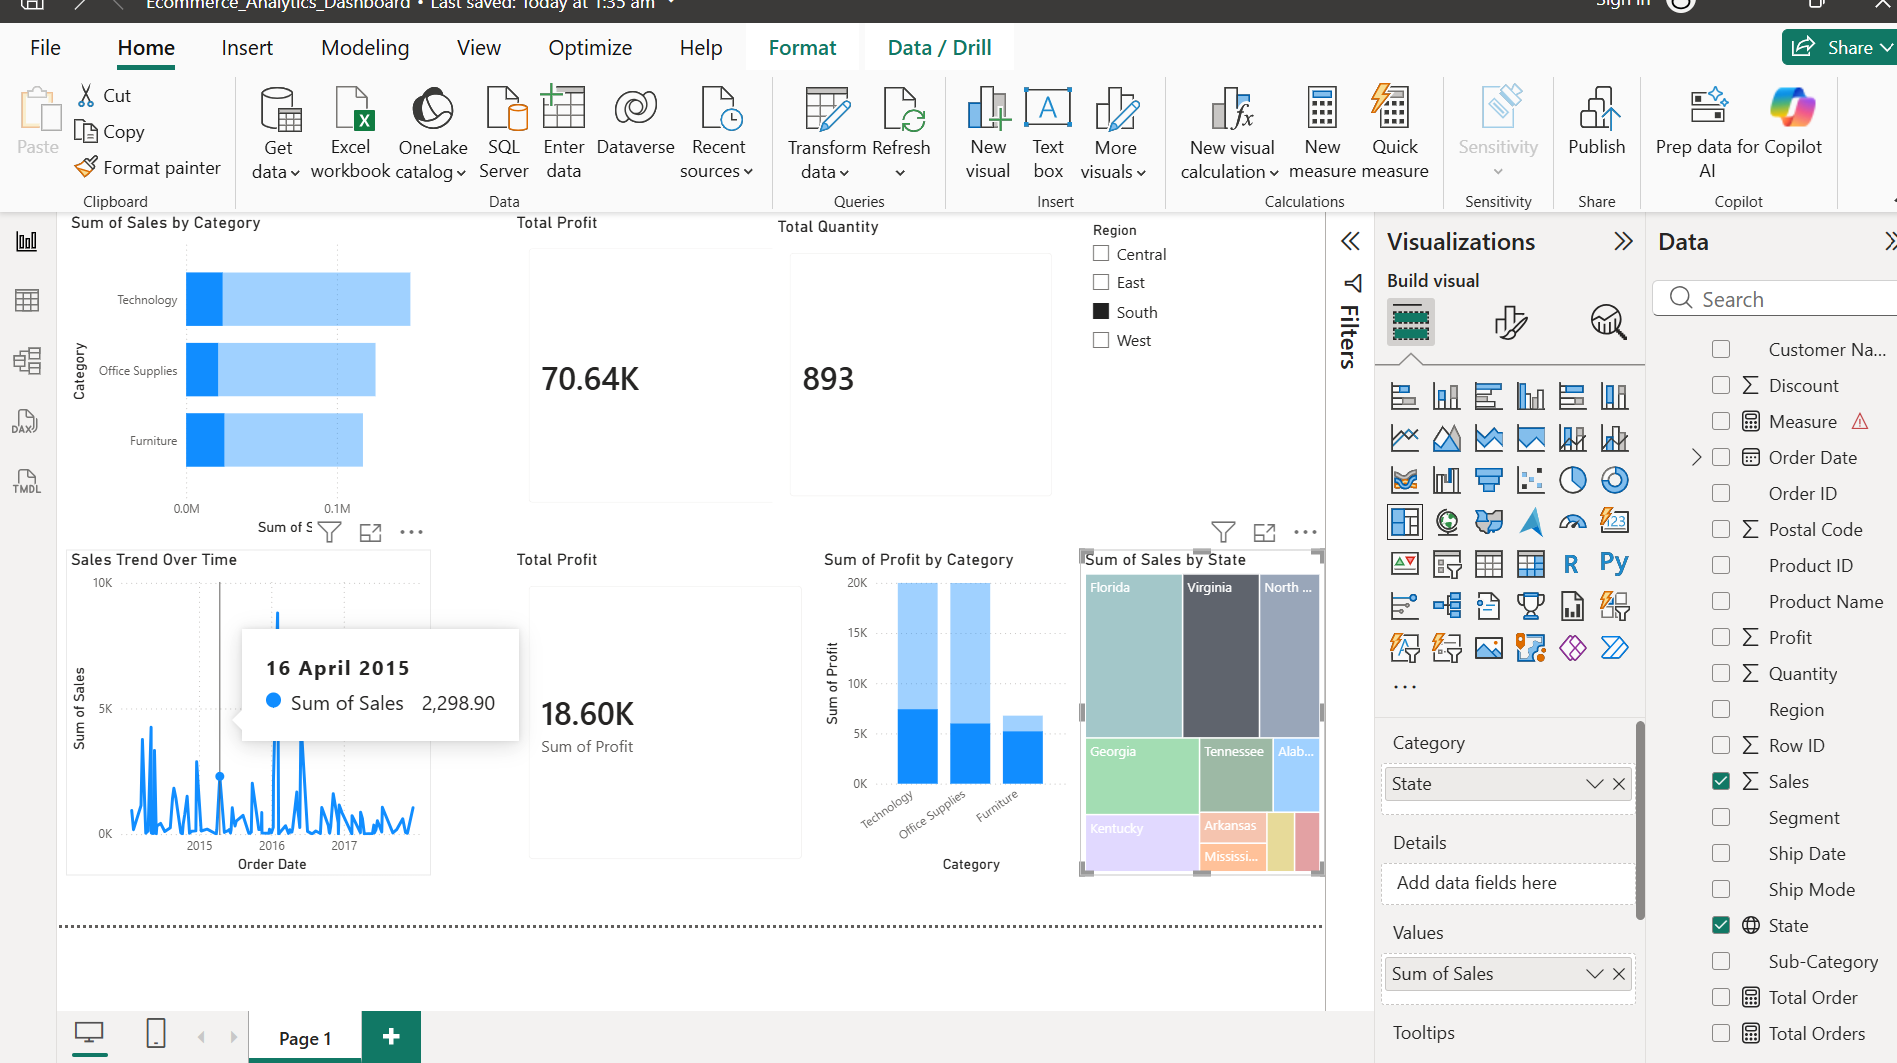

Layout of this report page (visuals, bound fields, positions):
{"tool":"powerbi","page":{"name":"Page 1","canvas":[1280,720],"ordinal":0},"visuals":[{"type":"clusteredBarChart","fields":{"Category":["Sample - Superstore.Category"],"Y":["Sum(Sample - Superstore.Sales)"]},"box":[9.1,0,368.2,330.1],"z":0},{"type":"cardVisual","title":"Total Profit","fields":{"Data":["Sum(Sample - Superstore.Sales)"]},"box":[459.5,0,310.4,310.4],"z":1000},{"type":"cardVisual","title":"Total Quantity","fields":{"Data":["Sum(Sample - Superstore.Quantity)"]},"box":[722.7,4.6,299.7,299.7],"z":2000},{"type":"lineChart","title":" Sales Trend Over Time","fields":{"Y":["Sum(Sample - Superstore.Sales)"],"Category":["Sample - Superstore.Order Date"]},"box":[9,340,368,330],"z":3000},{"type":"cardVisual","title":"Total Profit","fields":{"Data":["Sum(Sample - Superstore.Profit)"]},"box":[459,340,310,330],"z":4000},{"type":"clusteredColumnChart","fields":{"Category":["Sample - Superstore.Category"],"Y":["Sum(Sample - Superstore.Profit)"]},"box":[769,340,254,330],"z":5000},{"type":"slicer","fields":{"Values":["Sample - Superstore.Region"]},"box":[1033,5,247,300],"z":6000},{"type":"treemap","fields":{"Group":["Sample - Superstore.State"],"Values":["Sum(Sample - Superstore.Sales)"]},"box":[1033,340,247,330],"z":7000}]}

Visuals, with their boxes on the page's 1280x720 design canvas (x1, y1, x2, y2). These are canvas units, not pixel positions in the 1897x1063 screenshot, which may show the page scaled, cropped or inside an application window:
clusteredBarChart - Sample - Superstore.Category x Sum(Sample - Superstore.Sales): x1=9, y1=0, x2=377, y2=330
"Total Profit" cardVisual: x1=460, y1=0, x2=770, y2=310
"Total Quantity" cardVisual: x1=723, y1=5, x2=1022, y2=304
" Sales Trend Over Time" lineChart: x1=9, y1=340, x2=377, y2=670
"Total Profit" cardVisual: x1=459, y1=340, x2=769, y2=670
clusteredColumnChart - Sample - Superstore.Category x Sum(Sample - Superstore.Profit): x1=769, y1=340, x2=1023, y2=670
slicer - Sample - Superstore.Region: x1=1033, y1=5, x2=1280, y2=305
treemap - Sample - Superstore.State x Sum(Sample - Superstore.Sales): x1=1033, y1=340, x2=1280, y2=670
